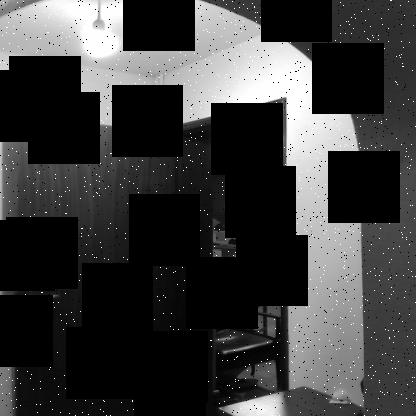Porte: (14, 96, 290, 416)
